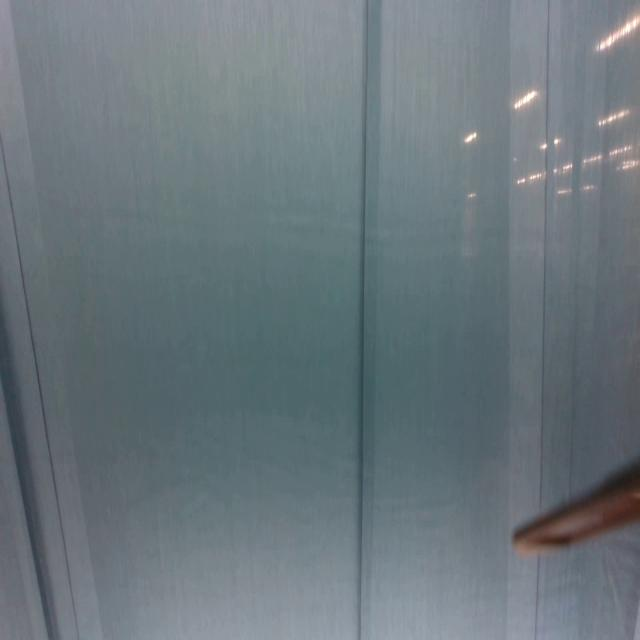crease: (0, 0, 106, 640), (506, 1, 577, 496), (355, 0, 386, 640), (508, 560, 572, 640)
